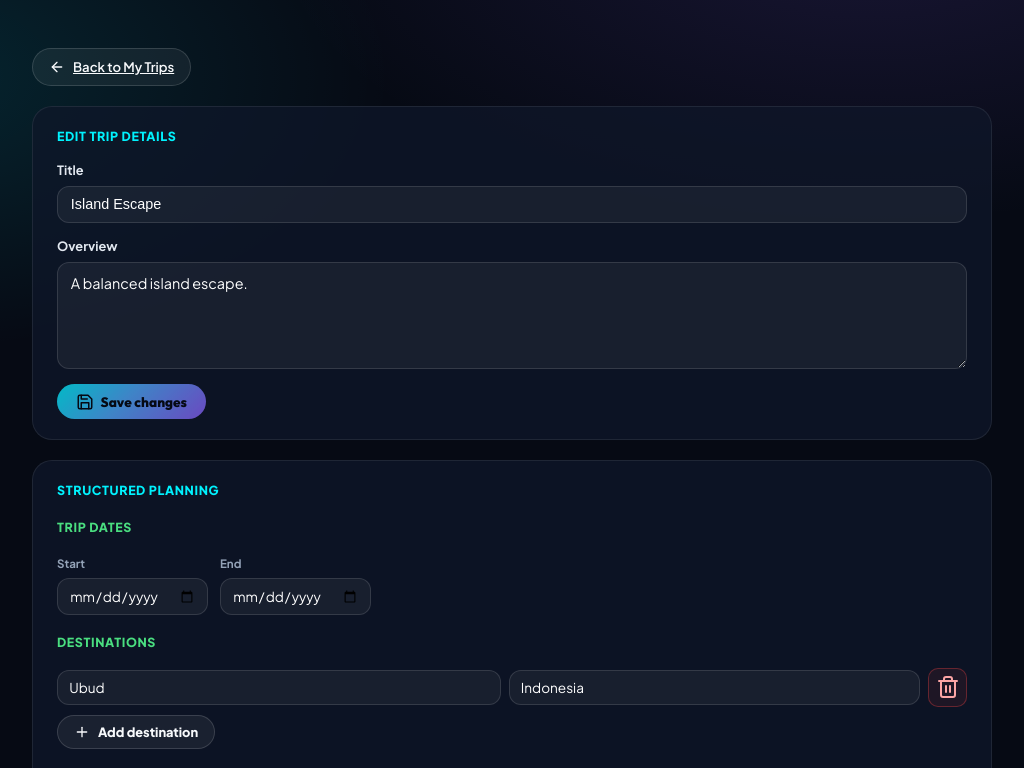
Scenario: TripWorkspacePage editing boundary › shows an inline error when saving fails
Clear the field labelled "Title" at (512, 204), box [57,186,967,223]
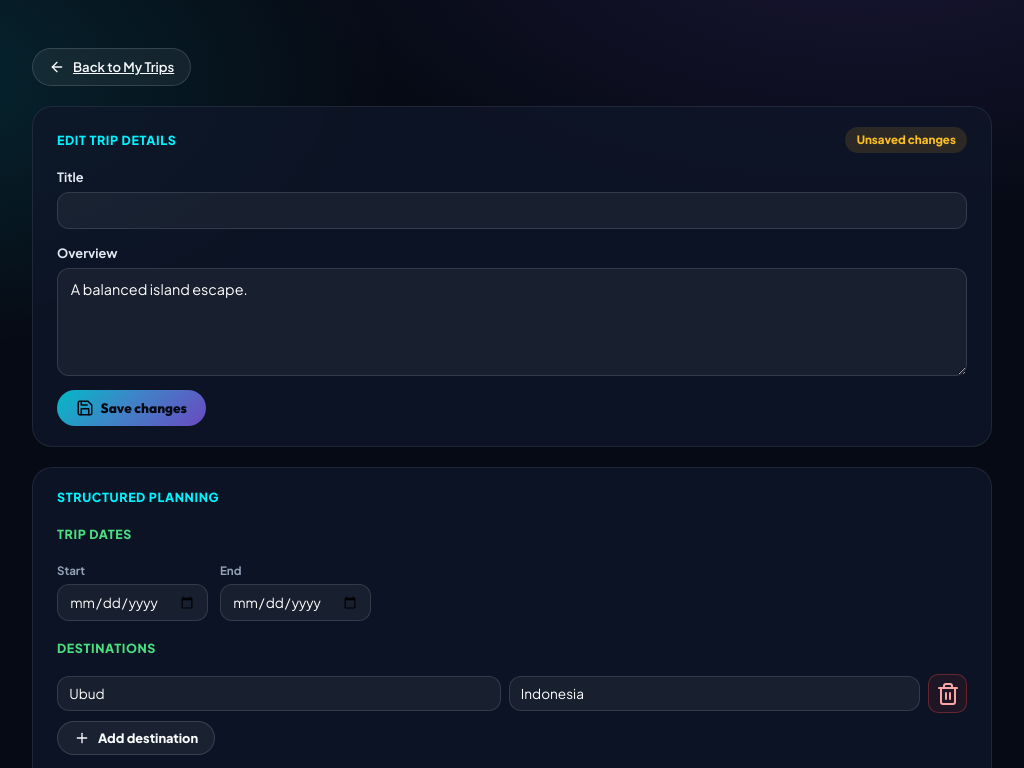
Type "Island Escape 2" into the field labelled "Title" at (512, 211), box [57,192,967,229]
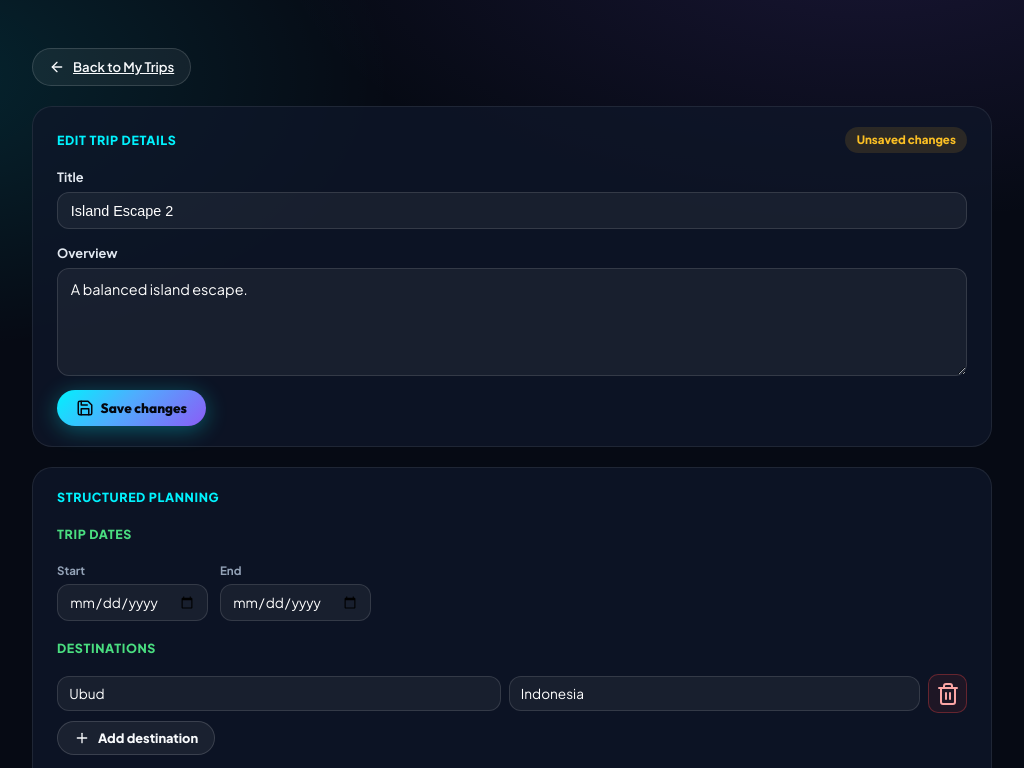
Click the button "Save changes" at (132, 408), box [57,390,206,426]
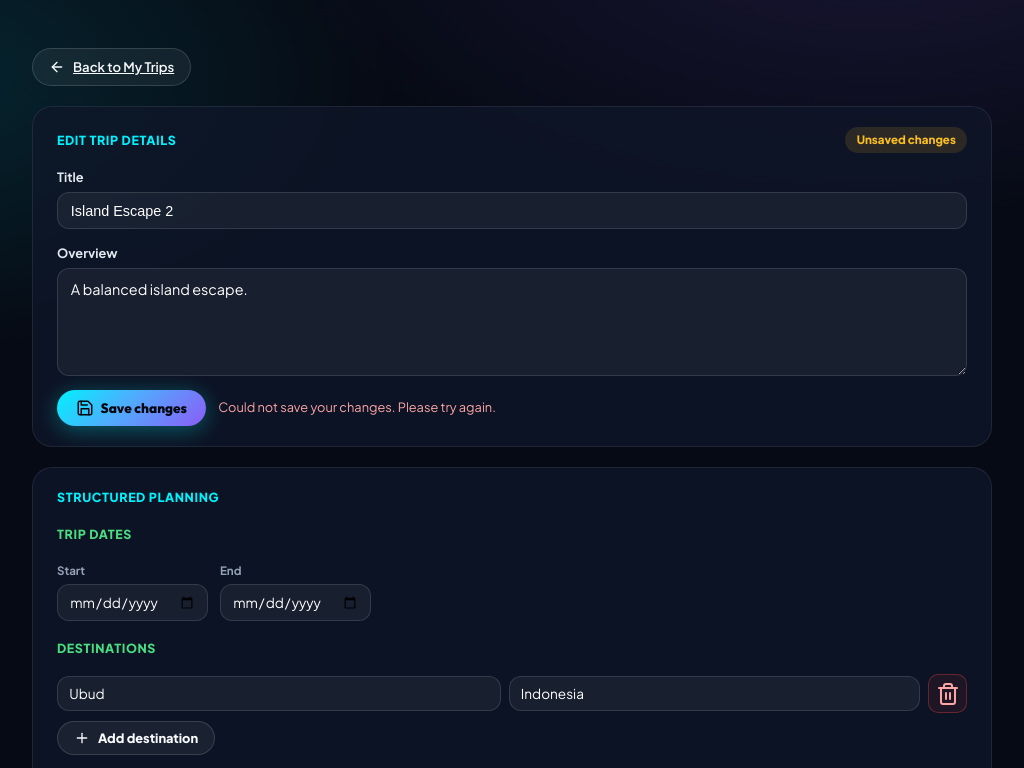
Expected: the text "Unsaved changes" is shown, [845,127,967,153]
Expected: the message shows "Could not save your changes.", [218,399,496,415]
